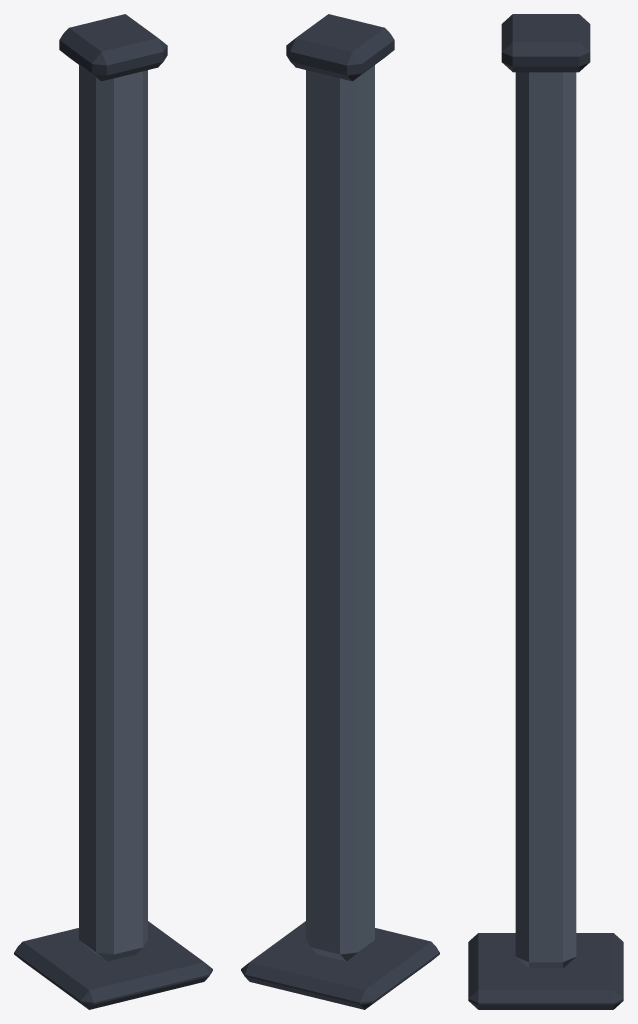
The model's file is rail_post.glb.
3 views of the same model, side by side, from view 1: azimuth 30°, elevation 25°; view 2: azimuth 150°, elevation 25°; view 3: azimuth 270°, elevation 25° (orthographic).
Parts seen in each view (by area): view 1: rail_post; view 2: rail_post; view 3: rail_post.
Part boxes in pixels (bbox=[...]): rail_post: bbox=[14, 14, 212, 1009]; rail_post: bbox=[241, 14, 439, 1009]; rail_post: bbox=[468, 14, 623, 1009].
Size of the model in its own units: 0.14 by 0.95 by 0.14.
1 material, 1 textured.
